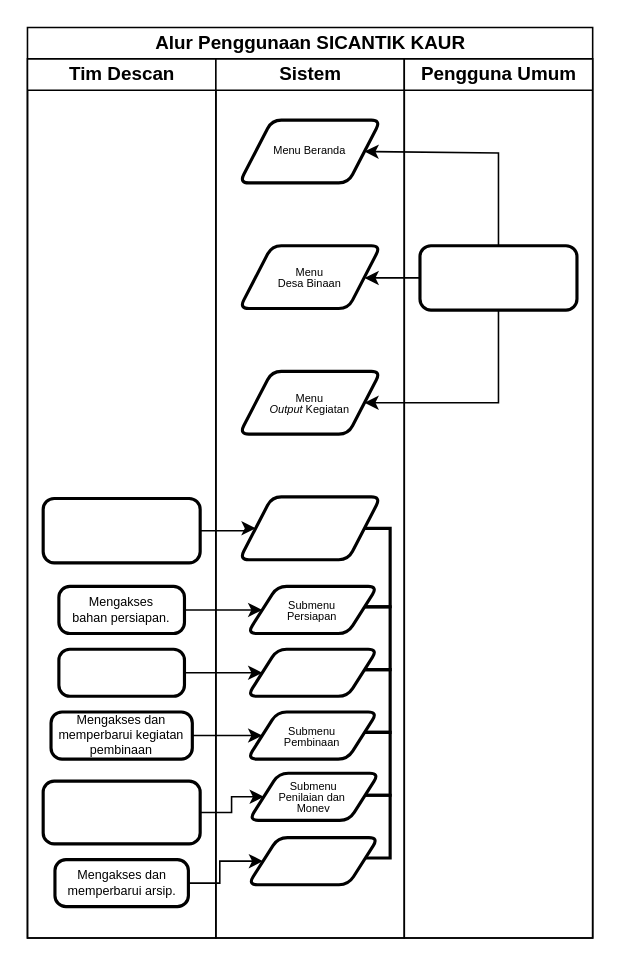
This 620x966 diagram has some shape labels left out. The shapes that lost their labels are listed below. From the top down, each one's centre as x and y in pixels, then its label:
At (x=498, y=277): "Mengakses".
At (x=121, y=530): "Login".
At (x=309, y=527): "Menu Portal Kerja".
At (x=121, y=672): "Mengakses bahan ajar.".
At (x=311, y=672): "Submenu Pelatihan".
At (x=121, y=812): "Mengakses dan memperbarui LKE, Form Identifikasi, dan Bukti Dukung.".
At (x=312, y=860): "Submenu Arsip".
